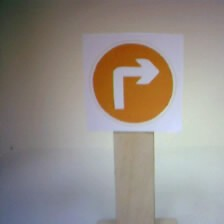right: (81, 34, 182, 133)
